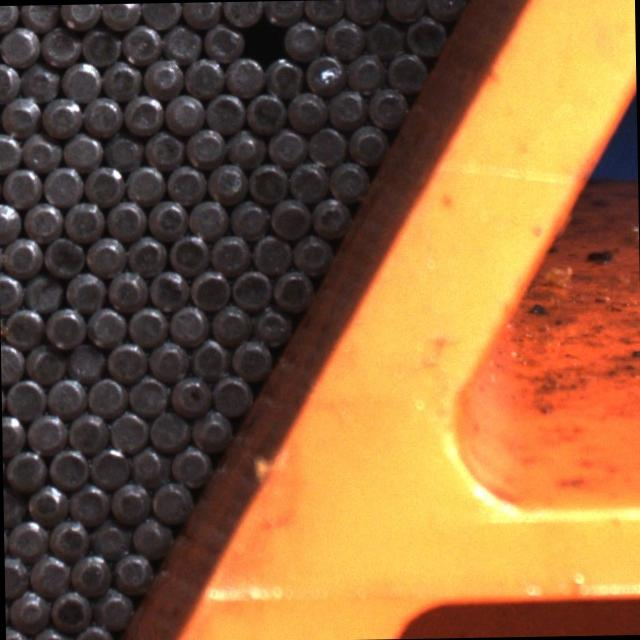tool: (168, 372, 210, 414), (26, 551, 68, 593), (126, 372, 168, 414), (146, 338, 188, 380), (126, 231, 168, 273), (150, 478, 192, 520), (50, 584, 92, 626), (268, 194, 310, 236), (212, 372, 254, 414), (230, 266, 272, 308), (189, 406, 231, 448), (309, 193, 351, 235), (170, 227, 212, 269), (291, 231, 333, 273), (61, 197, 102, 239), (104, 196, 146, 237), (4, 447, 46, 488), (1, 304, 42, 346), (182, 54, 223, 96), (208, 300, 250, 341), (1, 232, 42, 274), (44, 305, 86, 346), (106, 266, 147, 308), (230, 336, 272, 377), (69, 549, 110, 591), (209, 230, 250, 272), (46, 516, 88, 557), (66, 479, 108, 520), (64, 408, 106, 449), (3, 374, 44, 416), (108, 478, 149, 520), (250, 231, 291, 273), (42, 234, 83, 276), (188, 264, 230, 305), (405, 13, 447, 54), (105, 339, 146, 380), (206, 159, 247, 200), (20, 198, 61, 239), (227, 196, 268, 237), (84, 233, 125, 274), (25, 481, 66, 522), (322, 15, 363, 56), (78, 23, 119, 64), (346, 121, 387, 162), (367, 85, 408, 126), (92, 586, 133, 627), (145, 263, 186, 304), (200, 20, 242, 60), (167, 300, 207, 342), (112, 548, 152, 590), (162, 90, 202, 132), (142, 127, 184, 167), (40, 94, 80, 136), (304, 50, 346, 90), (128, 514, 170, 554), (286, 158, 328, 198), (245, 160, 287, 200), (272, 266, 312, 308), (382, 46, 424, 86), (282, 17, 322, 58), (186, 196, 227, 236), (0, 164, 41, 204), (164, 162, 205, 202), (184, 124, 224, 165), (106, 409, 146, 450), (82, 162, 123, 202), (42, 164, 83, 204), (188, 336, 228, 377), (245, 89, 285, 130), (23, 270, 63, 311), (127, 443, 168, 483), (25, 410, 66, 450), (122, 92, 162, 133), (126, 302, 166, 343), (204, 90, 244, 131), (47, 446, 88, 486), (0, 92, 40, 133), (344, 49, 384, 90), (23, 341, 64, 381), (147, 408, 188, 448), (145, 195, 185, 236), (328, 158, 369, 198), (251, 302, 292, 342), (169, 444, 210, 484), (84, 373, 124, 413), (64, 340, 104, 380), (6, 516, 46, 556), (89, 516, 129, 556), (326, 86, 366, 126), (124, 162, 164, 202), (224, 54, 264, 94), (84, 304, 124, 344), (286, 88, 326, 128), (60, 59, 100, 99), (20, 61, 60, 101), (265, 124, 305, 164), (81, 94, 121, 134), (306, 124, 346, 164), (38, 24, 78, 64), (224, 125, 264, 165), (8, 586, 48, 626), (64, 268, 104, 308), (142, 52, 182, 92), (102, 128, 142, 168), (120, 22, 160, 62), (20, 130, 60, 170), (100, 56, 140, 96), (262, 54, 302, 94), (86, 446, 126, 486), (364, 15, 404, 55), (242, 18, 282, 58), (45, 374, 84, 414), (61, 129, 101, 168), (161, 21, 200, 60), (0, 23, 37, 64), (18, 4, 58, 30), (140, 2, 180, 28), (99, 3, 139, 28), (180, 2, 220, 26), (0, 341, 24, 381), (4, 552, 27, 593), (1, 412, 24, 453), (59, 4, 98, 28), (222, 1, 262, 24), (262, 0, 302, 23), (343, 0, 383, 23), (0, 270, 23, 310), (303, 0, 343, 22), (384, 0, 424, 22), (0, 192, 21, 233), (2, 483, 24, 522), (71, 620, 112, 640), (0, 129, 20, 169), (0, 60, 19, 100), (29, 622, 70, 640), (423, 0, 463, 18)
